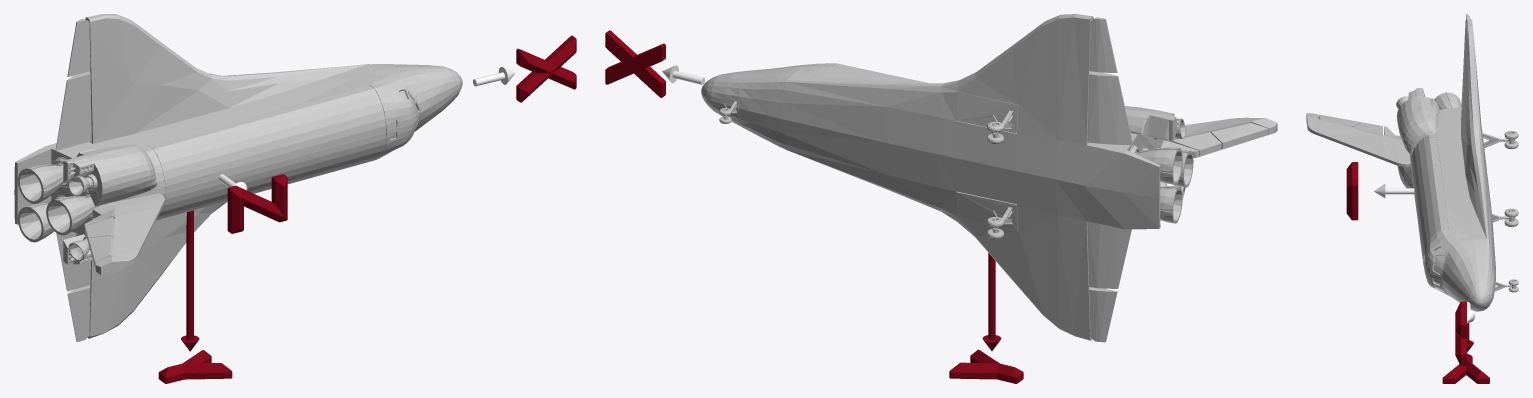
Rendered from shuttleXYZLeftAxis.obj.
3 renders of one model, left to right at view 1: azimuth 30°, elevation 25°; view 2: azimuth 150°, elevation 25°; view 3: azimuth 270°, elevation 25°, orthographic. The views are drawn at different scales.
Visible parts, largest first — view 1: Object.1, Object.6, Object.5, Object.7, Object.8; view 2: Object.1, Object.6, Object.7, Object.8; view 3: Object.1, Object.5, Object.6, Object.7, Object.2.
Part boxes in pixels (x1,y1,x2,y2): Object.1: (14, 14, 462, 341); Object.6: (516, 35, 576, 102); Object.5: (227, 174, 287, 233); Object.7: (158, 350, 232, 383); Object.8: (186, 210, 193, 340); Object.1: (701, 14, 1277, 342); Object.6: (605, 30, 665, 97); Object.7: (949, 349, 1023, 383); Object.8: (988, 253, 995, 340); Object.1: (1306, 14, 1518, 311); Object.5: (1346, 162, 1358, 220); Object.6: (1455, 301, 1466, 365); Object.7: (1442, 353, 1489, 383); Object.2: (1385, 188, 1414, 194).
Size of the model in its own units: 320 by 204 by 125.
